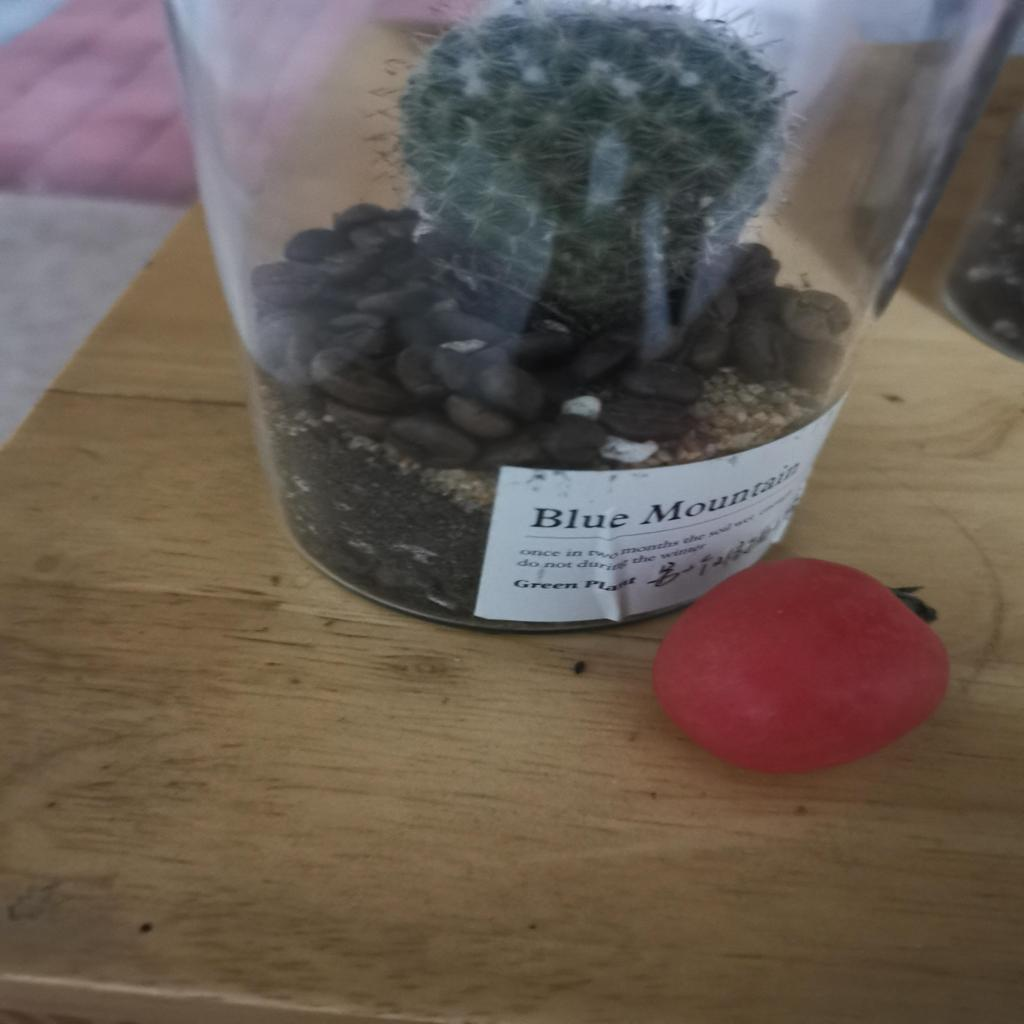tomato: (635, 547, 956, 779)
